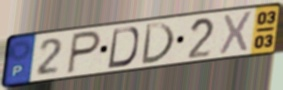2: (185, 16, 218, 60), (34, 36, 66, 78)
D: (139, 21, 176, 66), (106, 25, 141, 70)
P: (65, 29, 103, 76)
X: (218, 9, 255, 56)
